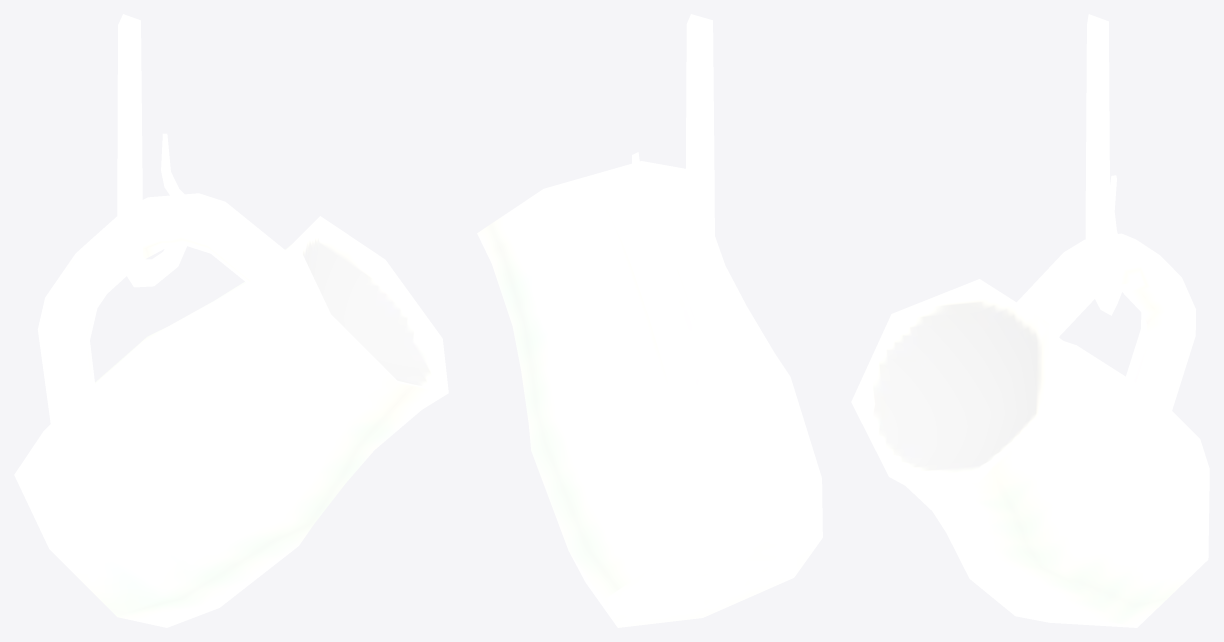
The model's file is hanging_lamp.glb.
3 views of the same model, side by side, from view 1: azimuth 30°, elevation 25°; view 2: azimuth 150°, elevation 25°; view 3: azimuth 270°, elevation 25° (orthographic). The views are drawn at different scales.
Parts seen in each view (by area): view 1: defaultMaterial.016; view 2: defaultMaterial.016; view 3: defaultMaterial.016.
Part boxes in pixels (<box>): defaultMaterial.016: <box>14,14,448,627</box>; defaultMaterial.016: <box>477,14,822,627</box>; defaultMaterial.016: <box>851,14,1209,627</box>.
Size of the model in its own units: 0.3318 by 0.5309 by 0.2903.
Materials: 1 (1 with a texture image).
